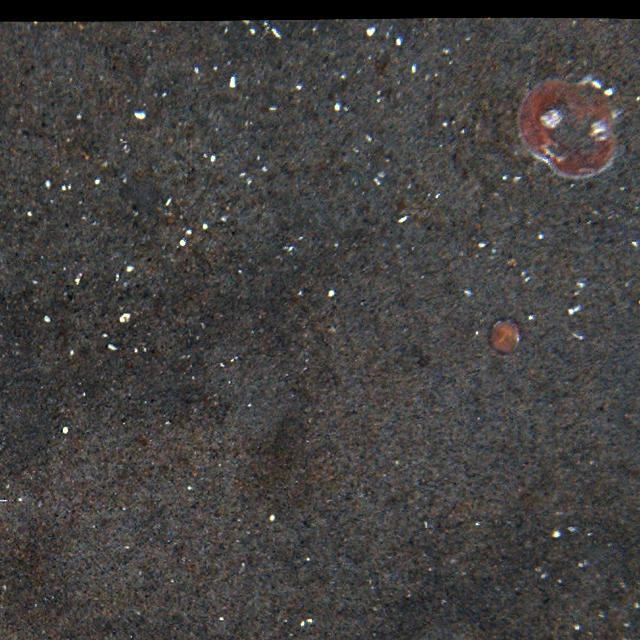scallop: (515, 71, 621, 183)
